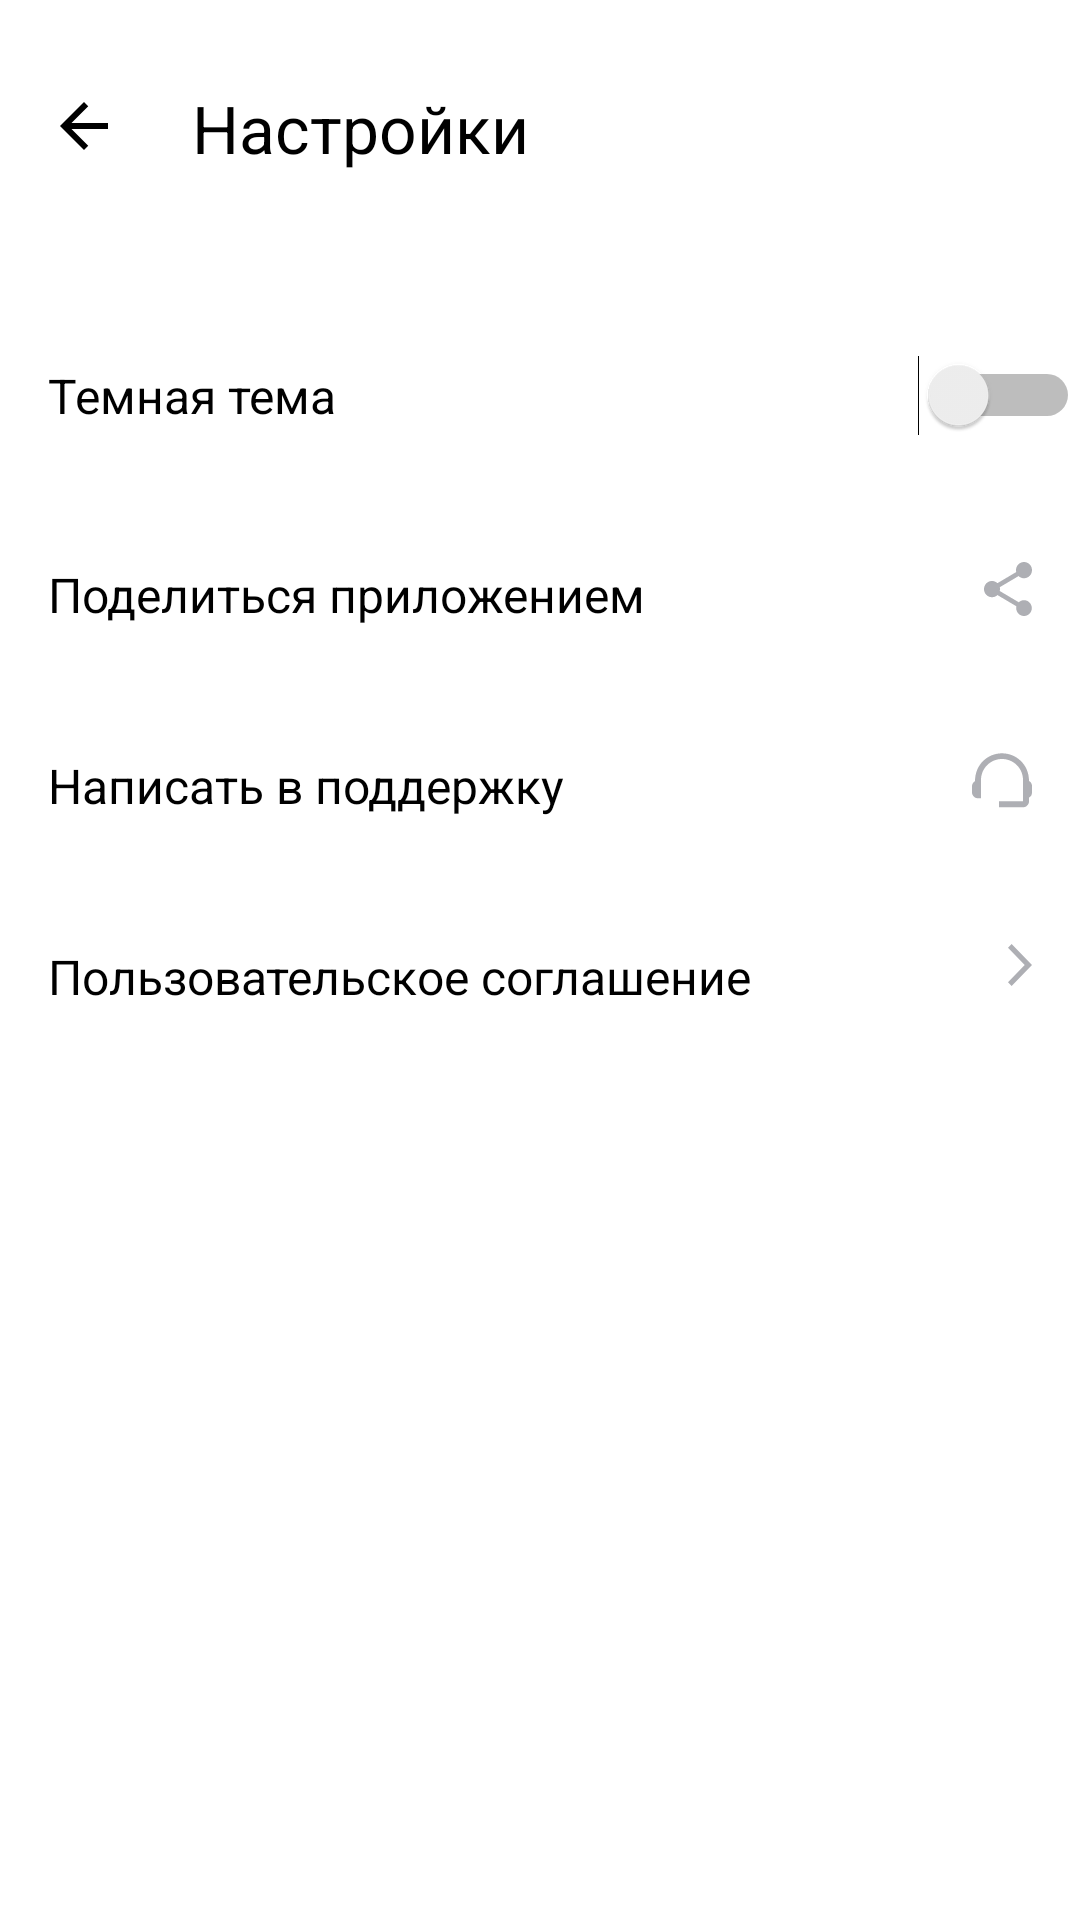

Screen size 1080x1920. Icon name, then its box in pixels as (x1, y1, x2, y2):
arrow: (60, 102, 108, 150)
